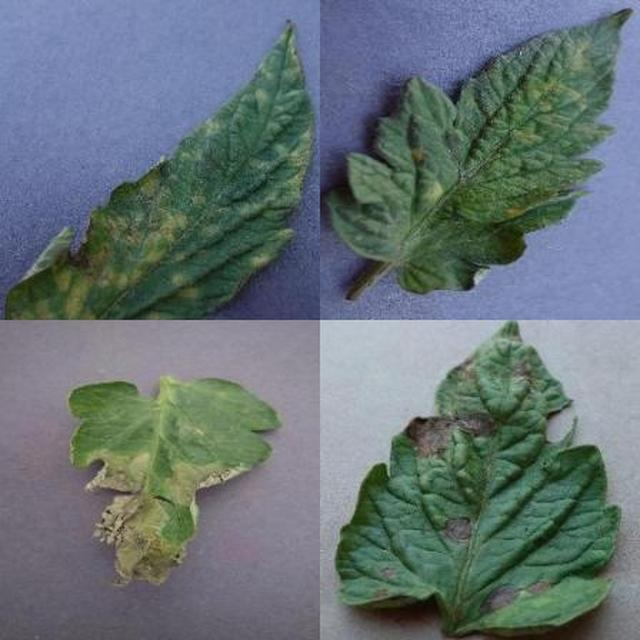Leaf Mold: (224, 214, 640, 640)
